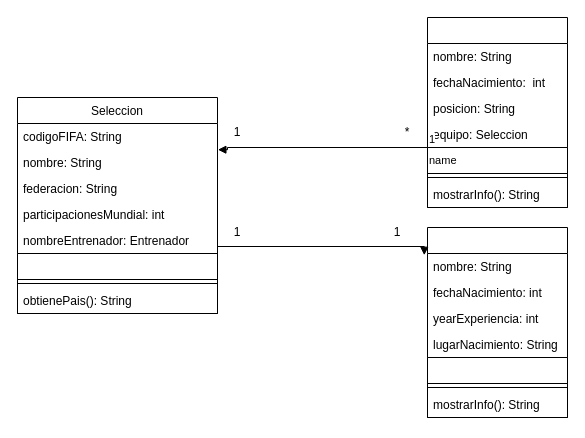
Image size: 585x438. Some labels were removed from this diagram. Here are the shapes that lost their labels. From the top down, the box of each, then its label:
(426, 16, 568, 208): Jugador
(426, 226, 568, 418): Entrenador
